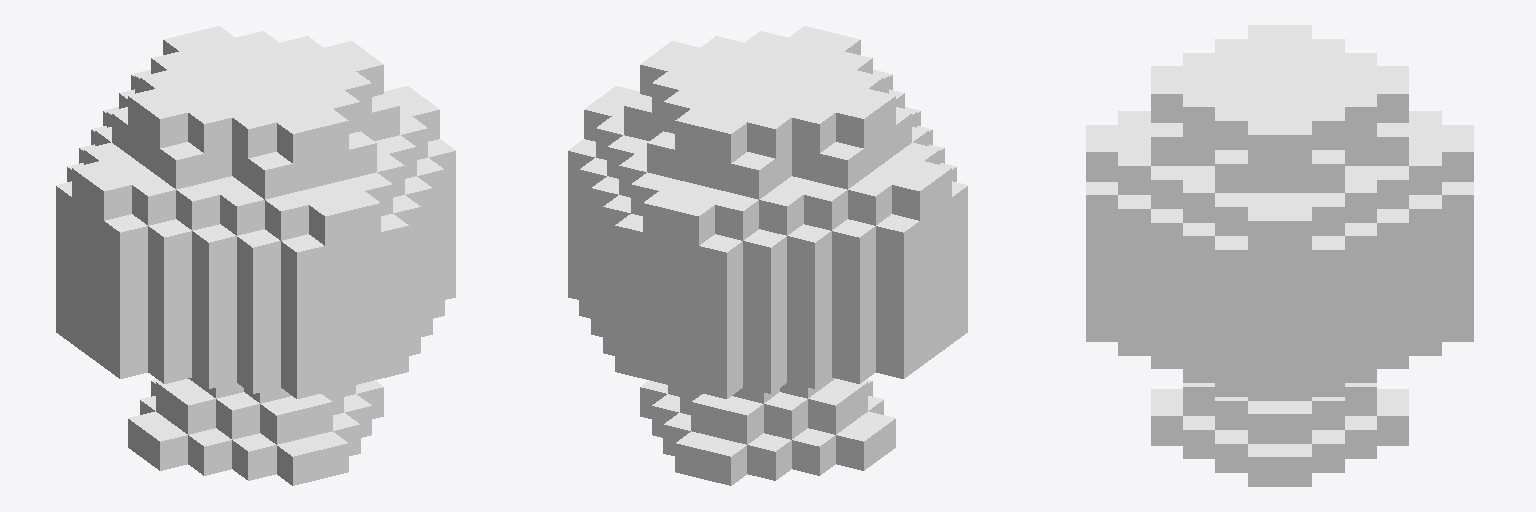
Rendered from LargeMushroom1.obj.
3 views of the same model, side by side, from view 1: azimuth 30°, elevation 25°; view 2: azimuth 150°, elevation 25°; view 3: azimuth 270°, elevation 25° (orthographic).
Visible parts, largest first — view 1: Model; view 2: Model; view 3: Model.
Boxes of the visible parts, <box> form: Model: <box>56,26,455,485</box>; Model: <box>568,26,967,485</box>; Model: <box>1086,25,1473,486</box>.
Size of the model in its own units: 12 by 12 by 12.